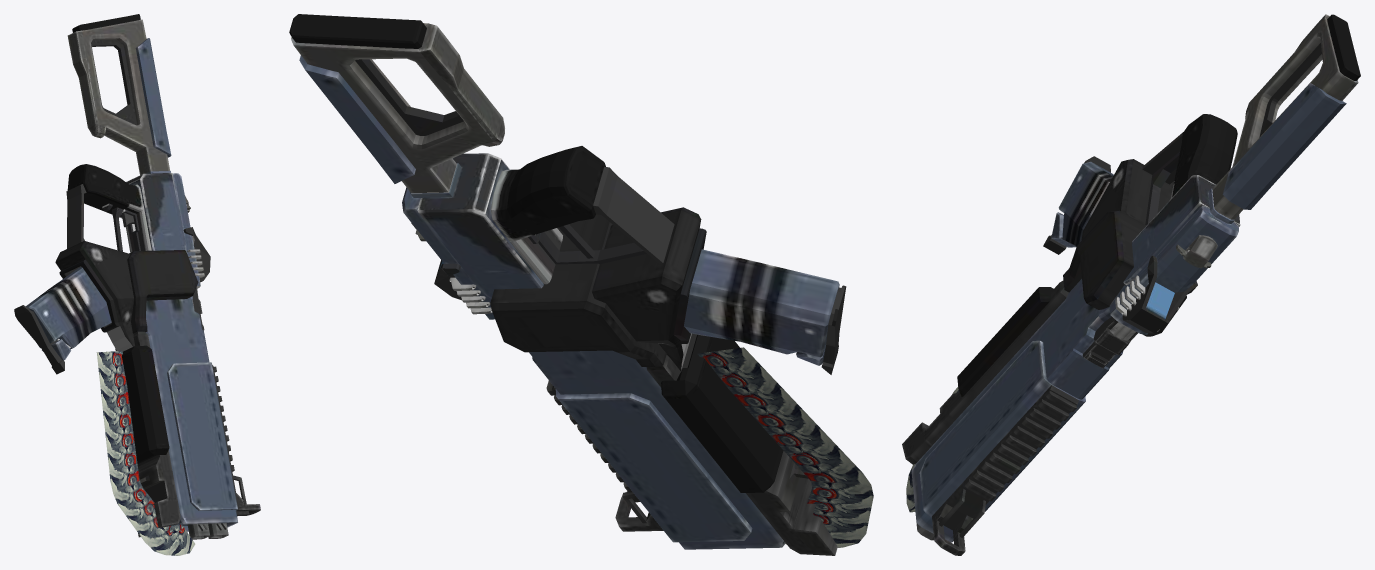
The model's file is mechanic-lancer.glb.
The picture shows the model from 3 angles, left to right: view 1: azimuth 30°, elevation 25°; view 2: azimuth 150°, elevation 25°; view 3: azimuth 270°, elevation 25°; orthographic projection. The views are drawn at different scales.
Parts seen in each view (by area): view 1: geometry_1, geometry_2, geometry_0; view 2: geometry_1, geometry_0, geometry_2; view 3: geometry_1, geometry_0.
Part boxes in pixels (x1,y1,x2,y2): geometry_1: (55, 14, 260, 539); geometry_2: (96, 350, 195, 555); geometry_0: (14, 267, 111, 374); geometry_1: (289, 14, 837, 555); geometry_0: (684, 249, 846, 374); geometry_2: (697, 347, 873, 547); geometry_1: (902, 14, 1360, 555); geometry_0: (1043, 156, 1113, 254).
Bounding box in the file's own units: 0.3516 × 0.6202 × 0.4842.
Materials: 3 (3 with a texture image).
